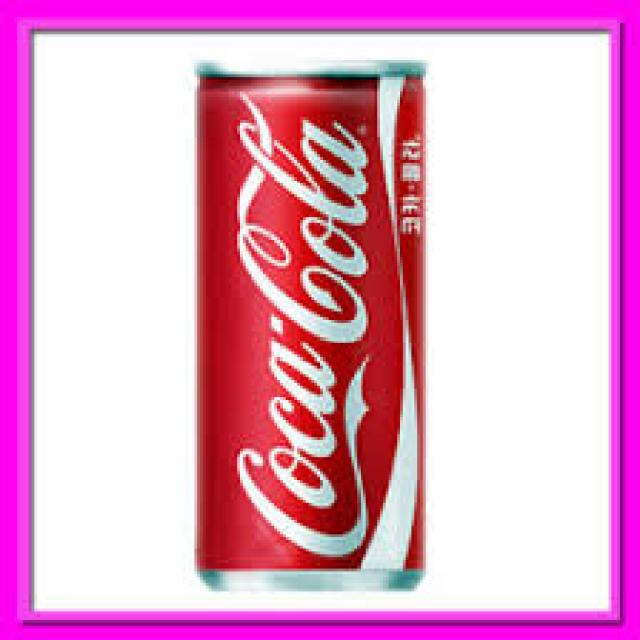Coca-Cola: (186, 49, 439, 598)
